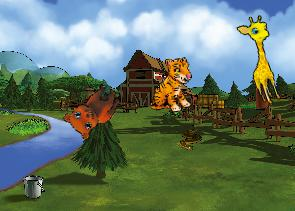bear: (59, 74, 124, 144)
giraffe: (234, 12, 292, 107)
tiger: (145, 56, 196, 115)
